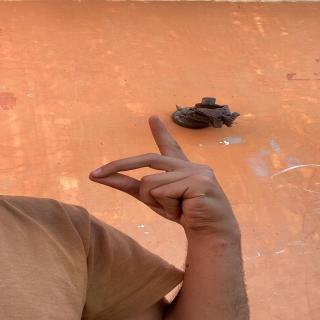TAA: (86, 110, 243, 227)
